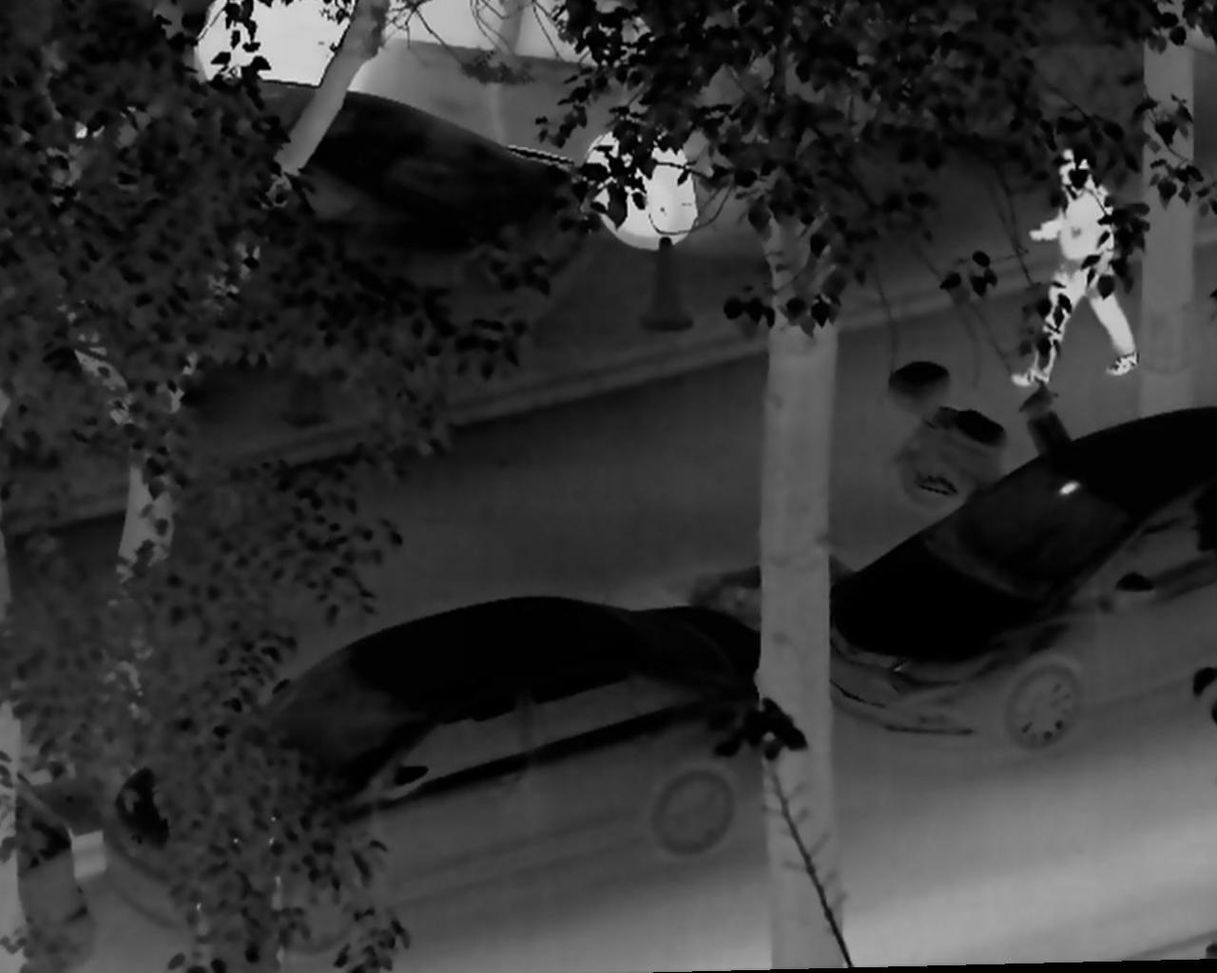person: (1003, 143, 1140, 393)
